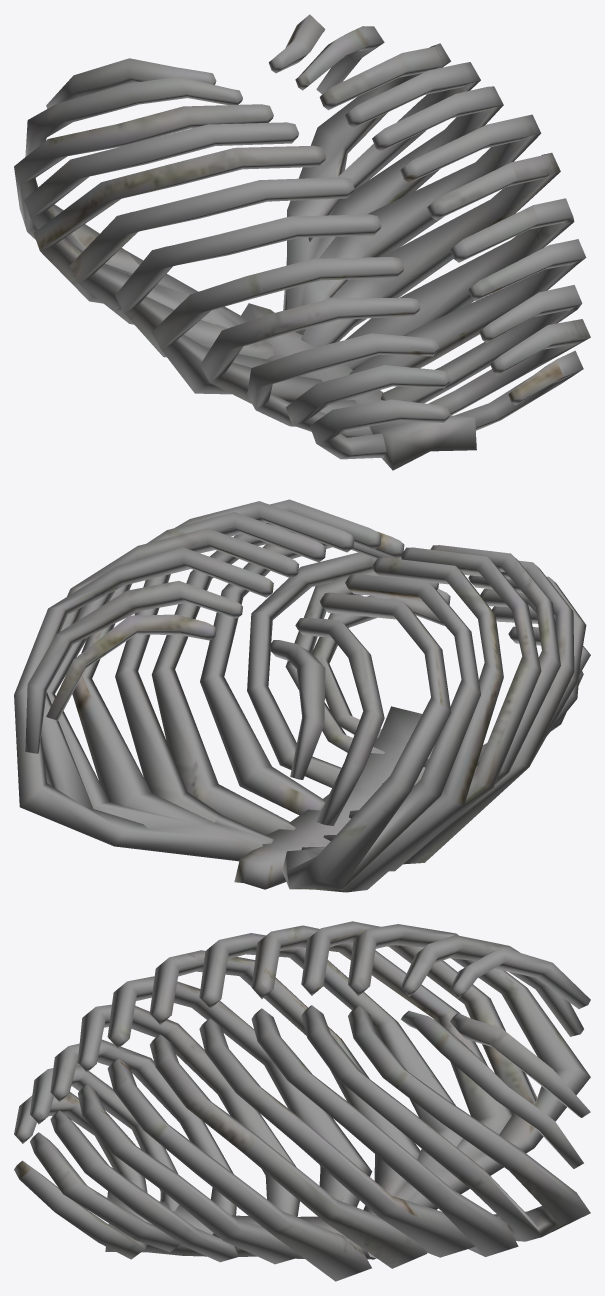
Rendered from Dungeon_Ribcage.glb.
The picture shows the model from 3 angles, top to bottom: view 1: azimuth 30°, elevation 25°; view 2: azimuth 150°, elevation 25°; view 3: azimuth 270°, elevation 25°; orthographic projection. The views are drawn at different scales.
Visible parts, largest first — view 1: Dungeon_Ribcage; view 2: Dungeon_Ribcage; view 3: Dungeon_Ribcage.
Part boxes in pixels (box(x1,y1,x2,y2)): Dungeon_Ribcage: box(14, 14, 590, 470); Dungeon_Ribcage: box(14, 499, 590, 892); Dungeon_Ribcage: box(14, 921, 590, 1281).
Size of the model in its own units: 0.4271 by 0.2843 by 0.5463.
1 material, 1 textured.
